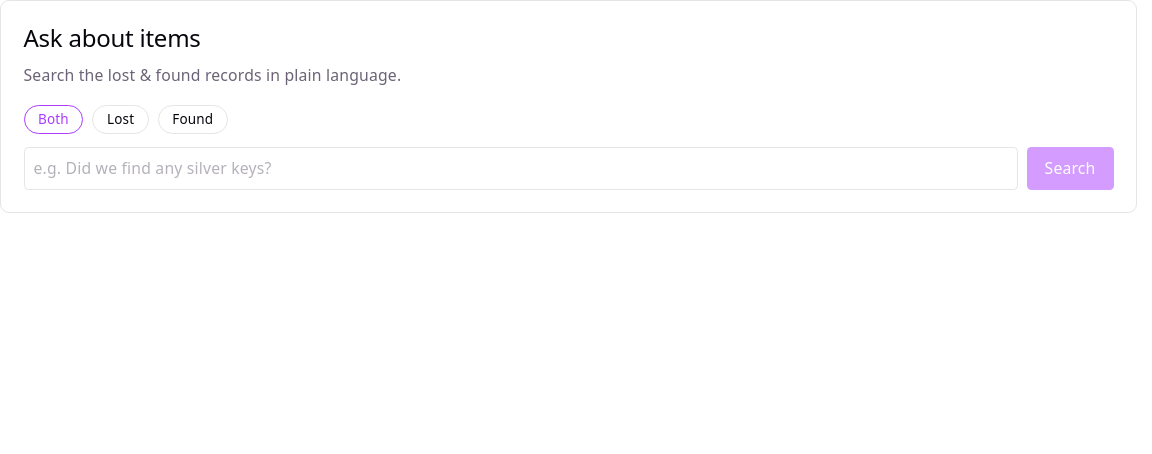
Test: <ItemSearchPanel /> › shows a "summary unavailable" note with cited results in degraded mode
Type "phone" into the field named "search query". click: (521, 169)
box: [24,147,1018,190]
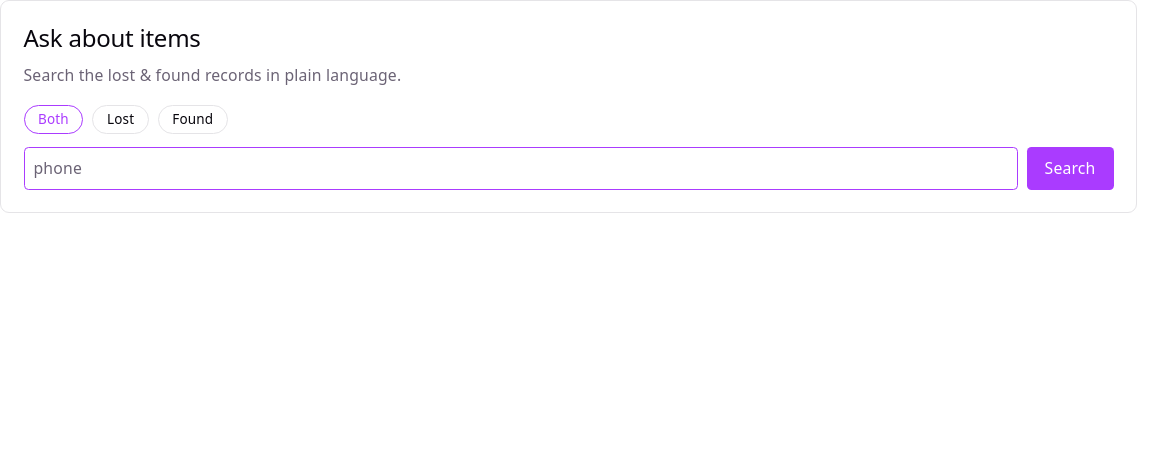
Click the button "Search". click: (1070, 169)
box: [1027,147,1114,190]
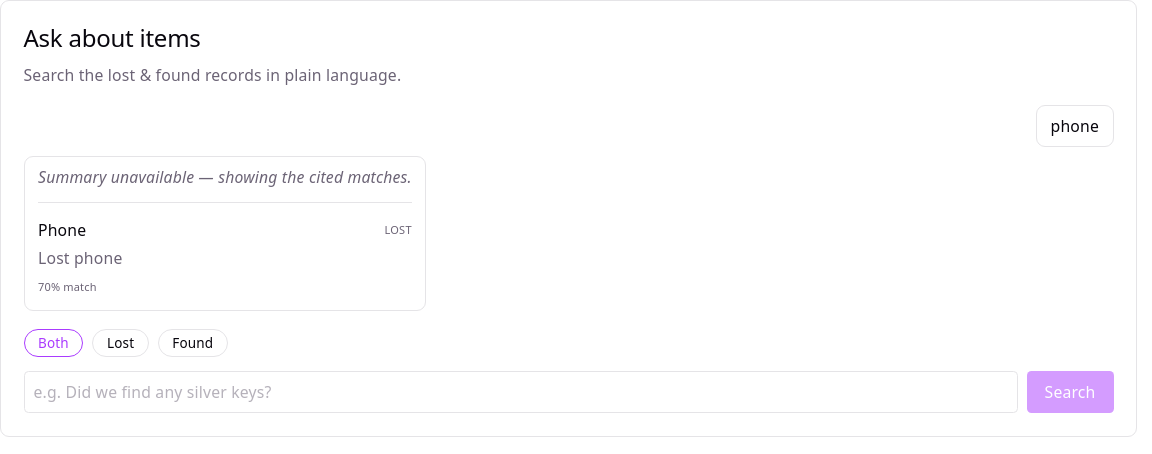
Result: the text "Summary unavailable — showing the cited matches." is shown at [38,166,412,189]
Result: the element with test id "search-result-card" is shown at [38,217,412,300]
